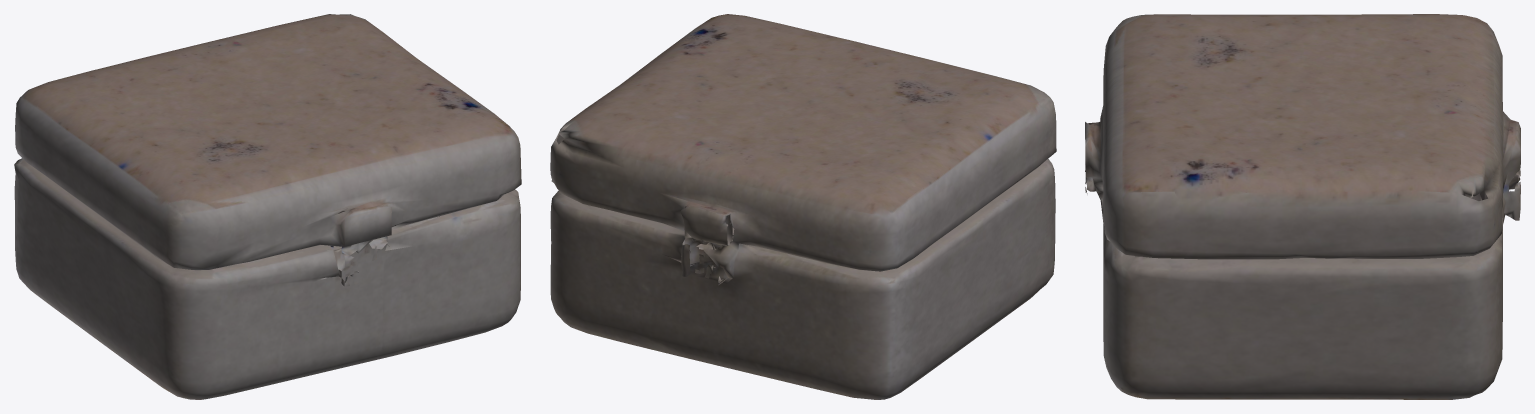
File: tinderbox-base.glb
3 renders of one model, left to right at view 1: azimuth 30°, elevation 25°; view 2: azimuth 150°, elevation 25°; view 3: azimuth 270°, elevation 25°, orthographic. The views are drawn at different scales.
Visible parts, largest first — view 1: file1; view 2: file1; view 3: file1.
Part boxes in pixels (bbox=[...]): file1: bbox=[14, 14, 521, 399]; file1: bbox=[550, 14, 1056, 399]; file1: bbox=[1085, 14, 1520, 399].
Bounding box in the file's own units: 1.99 × 1.12 × 1.95.
1 material, 1 textured.
